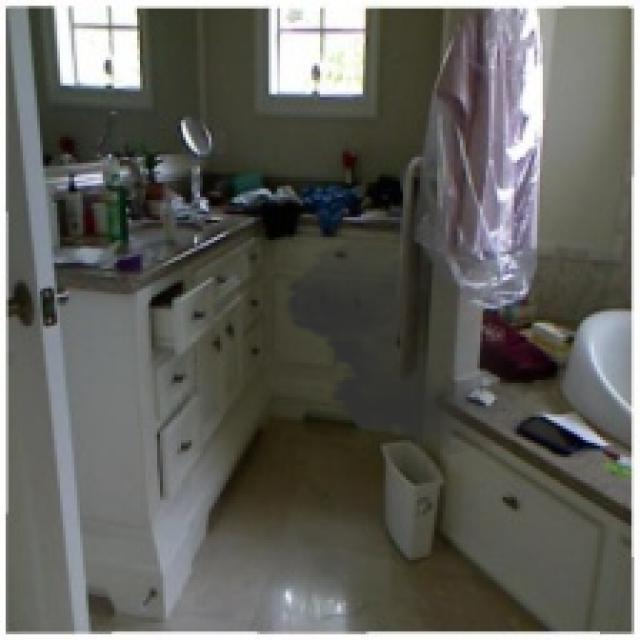smoke: (274, 189, 554, 454)
